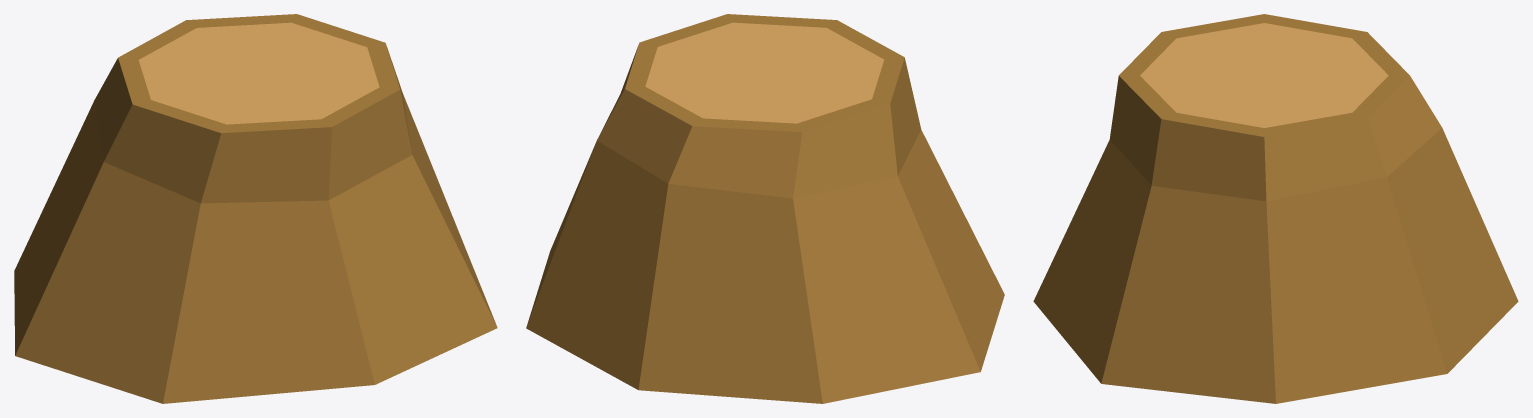
File: treestump1.fbx
3 renders of one model, left to right at view 1: azimuth 30°, elevation 25°; view 2: azimuth 150°, elevation 25°; view 3: azimuth 270°, elevation 25°, orthographic.
Parts seen in each view (by area): view 1: pCylinder1; view 2: pCylinder1; view 3: pCylinder1.
Part boxes in pixels (left/top/right/bottom): pCylinder1: left=14, top=14, right=497, bottom=403; pCylinder1: left=526, top=14, right=1004, bottom=403; pCylinder1: left=1033, top=14, right=1518, bottom=403.
Size of the model in its own units: 3.27 by 1.67 by 3.12.
